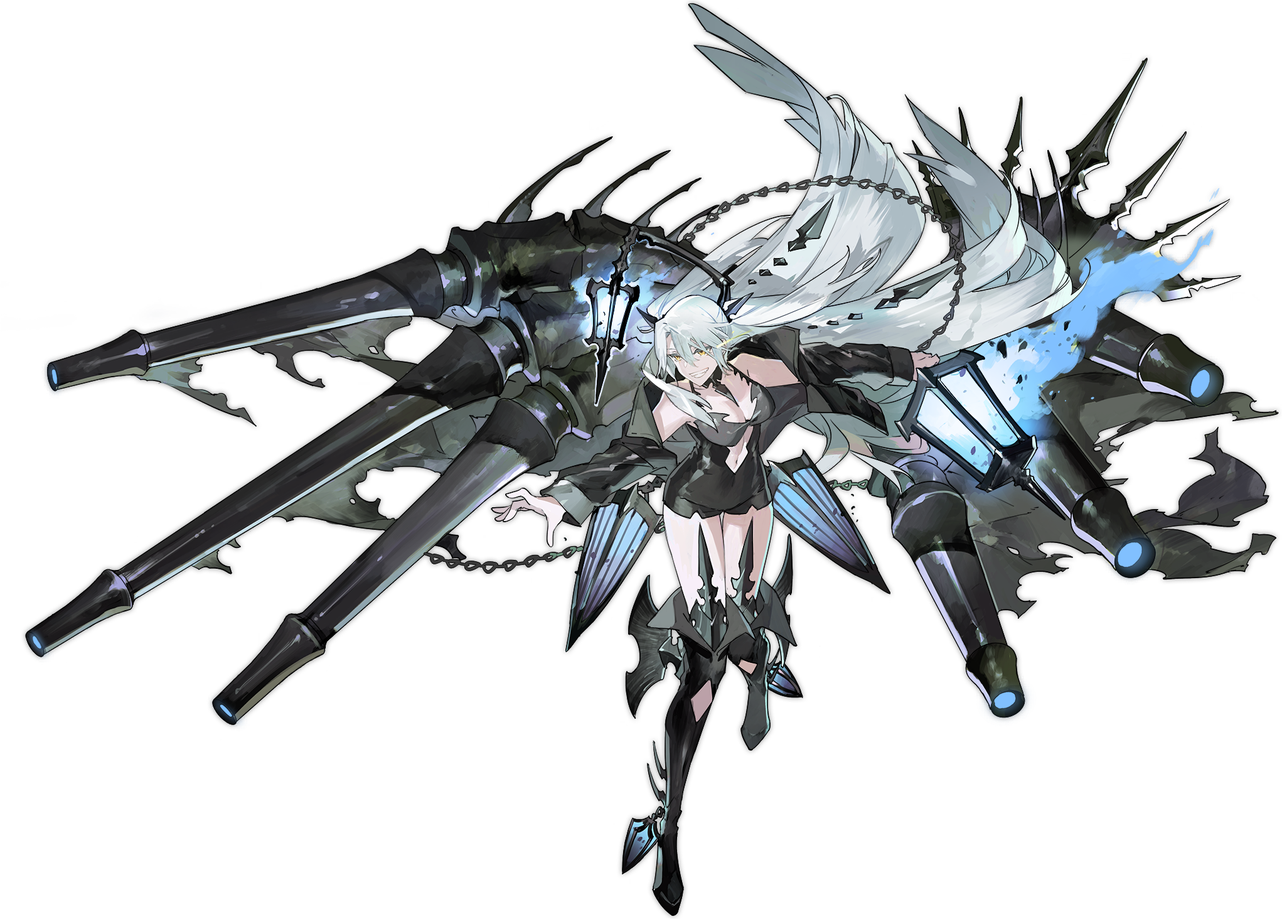person: (543, 240, 1049, 755)
